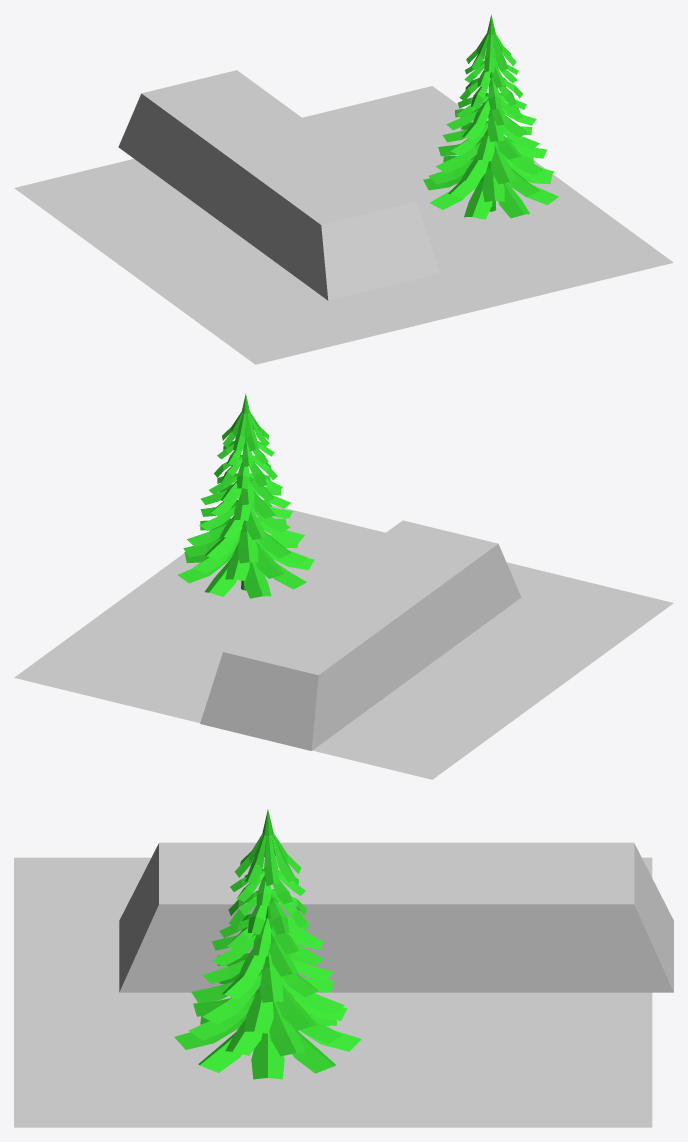
Rendered from testscene.glb.
3 renders of one model, top to bottom at view 1: azimuth 30°, elevation 25°; view 2: azimuth 150°, elevation 25°; view 3: azimuth 270°, elevation 25°, orthographic. The views are drawn at different scales.
Parts seen in each view (by area): view 1: Plane, Cube, Fir-tree; view 2: Plane, Cube, Fir-tree; view 3: Plane, Cube, Fir-tree.
Part boxes in pixels (<box>): Plane: <box>14,86,673,364</box>; Cube: <box>118,70,439,300</box>; Fir-tree: <box>423,14,558,219</box>; Plane: <box>14,505,673,779</box>; Cube: <box>200,520,521,750</box>; Fir-tree: <box>177,393,314,598</box>; Plane: <box>14,857,652,1127</box>; Cube: <box>119,842,673,992</box>; Fir-tree: <box>174,809,361,1079</box>.
Size of the model in its own units: 12.8 by 5.83 by 13.24.
